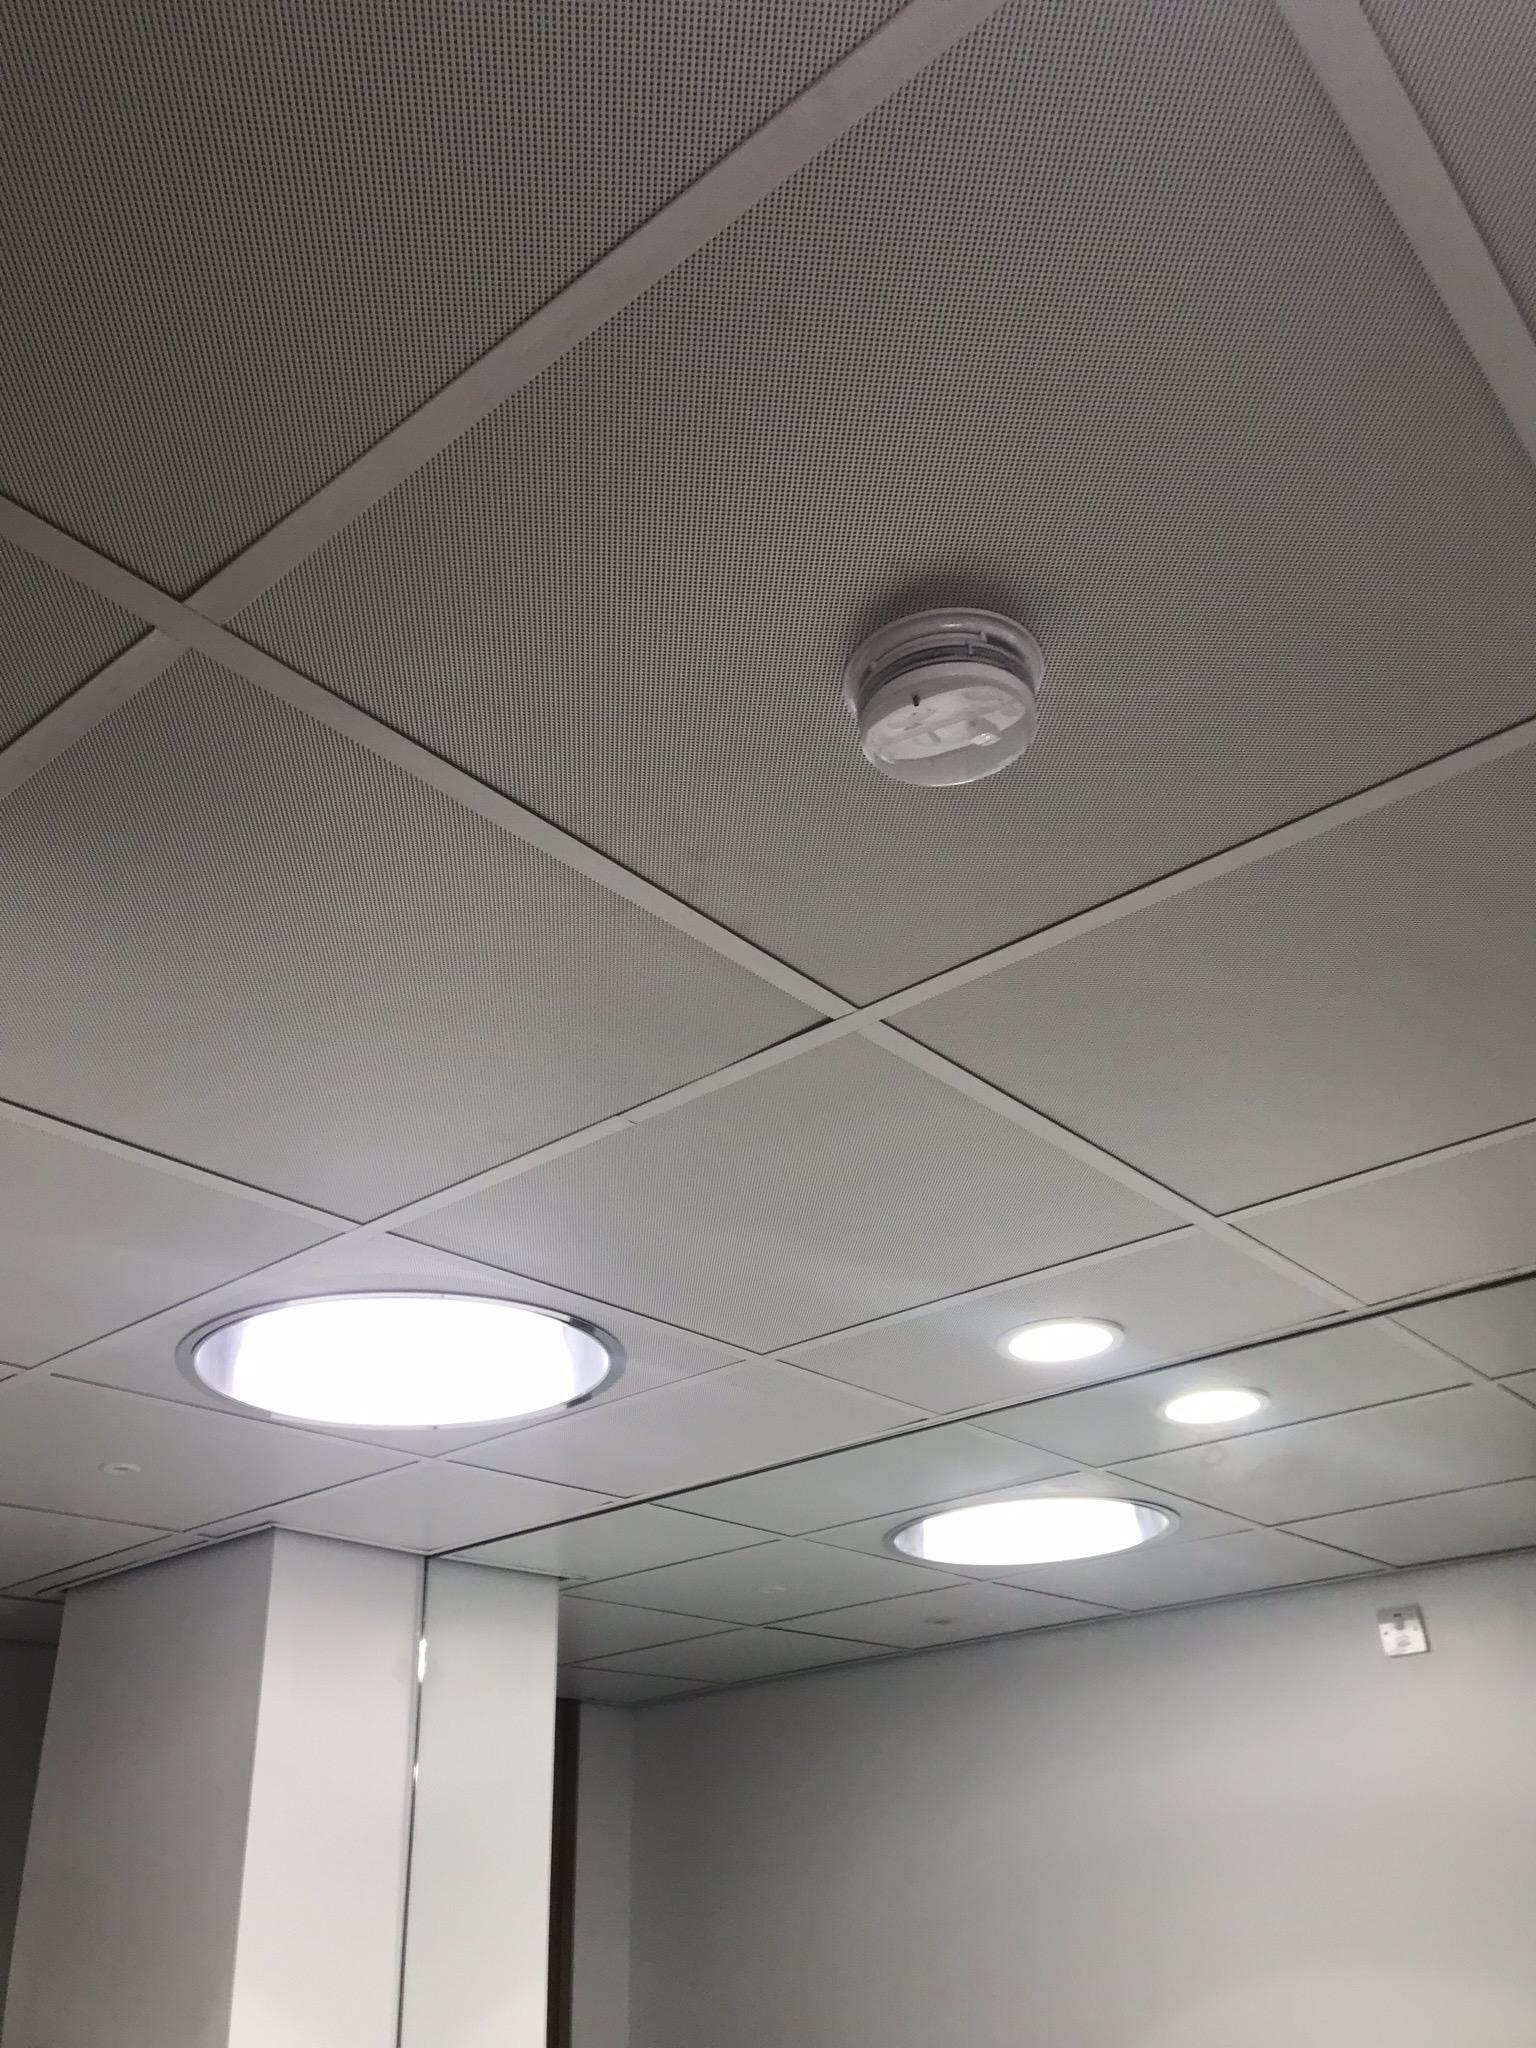detector: (842, 608, 1042, 787)
